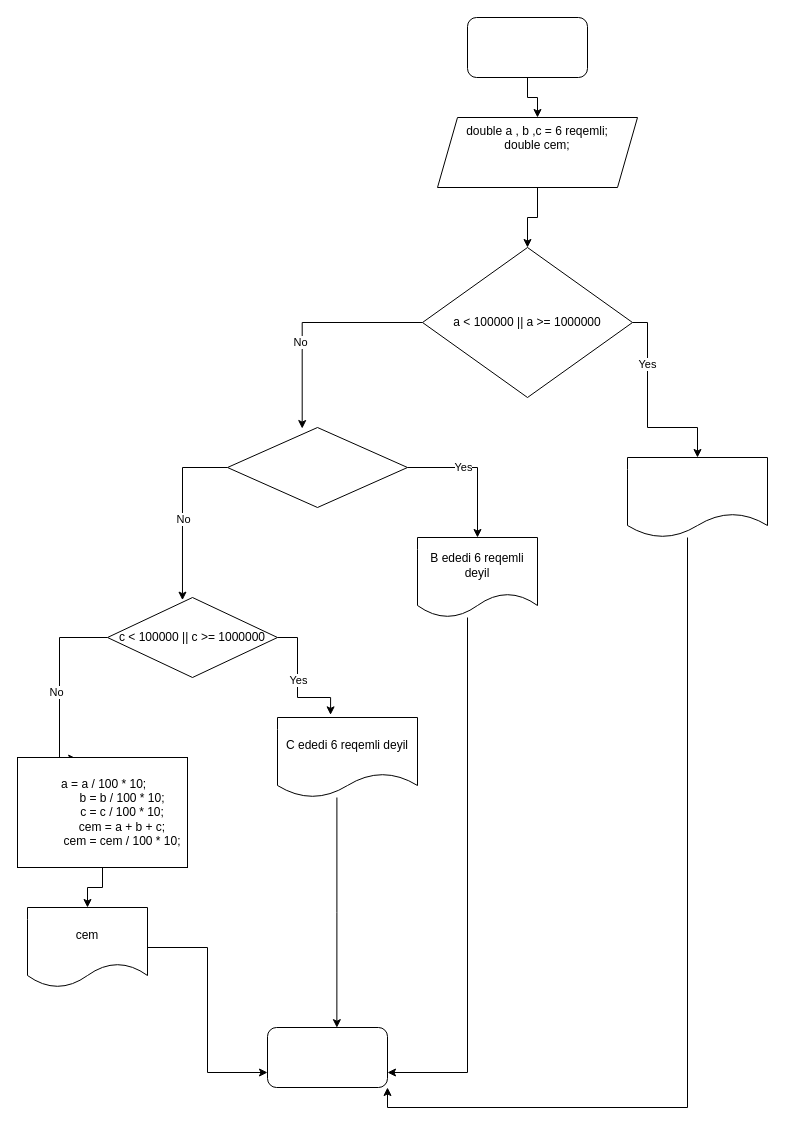
Image size: 785x1133. Some labels were removed from this diagram. Each missing label, with the centre of its shape:
"A ededi 6 reqemli deyil" belongs at pixel 697 497.
"b < 100000 || b >= 1000000" belongs at pixel 317 467.
"End" belongs at pixel 327 1057.
"Start" belongs at pixel 527 47.
